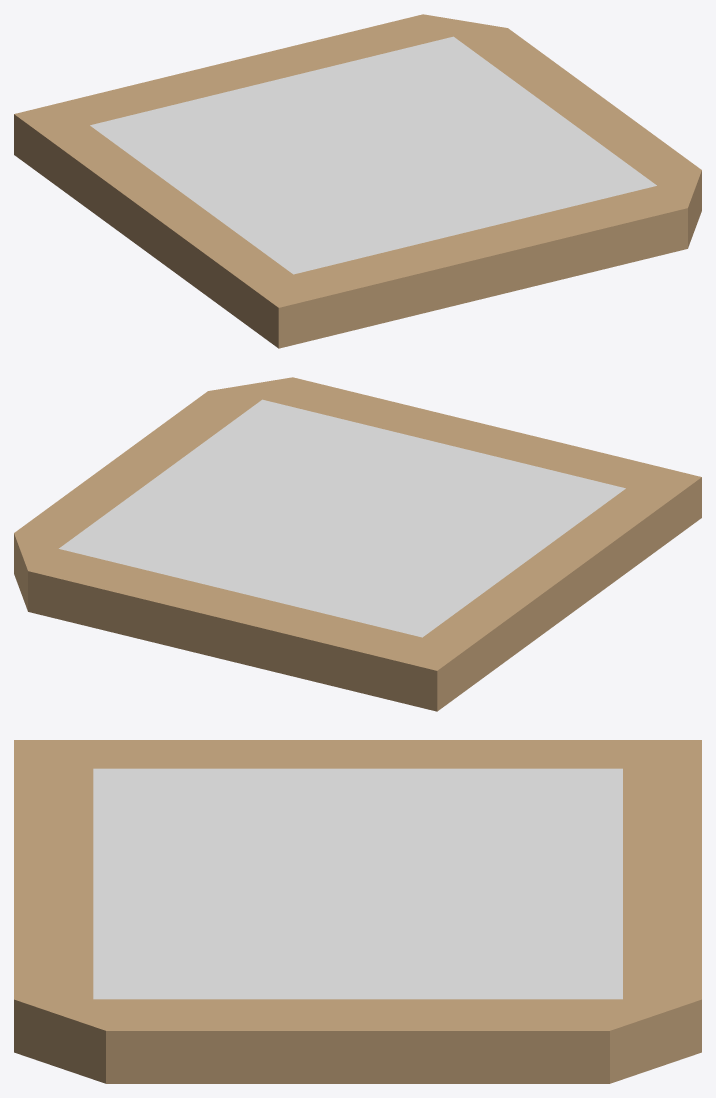
Rendered from Pizza.fbx.
The picture shows the model from 3 angles, top to bottom: view 1: azimuth 30°, elevation 25°; view 2: azimuth 150°, elevation 25°; view 3: azimuth 270°, elevation 25°; orthographic projection. The views are drawn at different scales.
Parts seen in each view (by area): view 1: Cube; view 2: Cube; view 3: Cube.
Boxes of the visible parts, x1,y1,x2,y2 form: Cube: [14, 14, 701, 348]; Cube: [14, 377, 701, 711]; Cube: [14, 740, 701, 1083].
Bounding box in the file's own units: 200 × 17 × 200.
